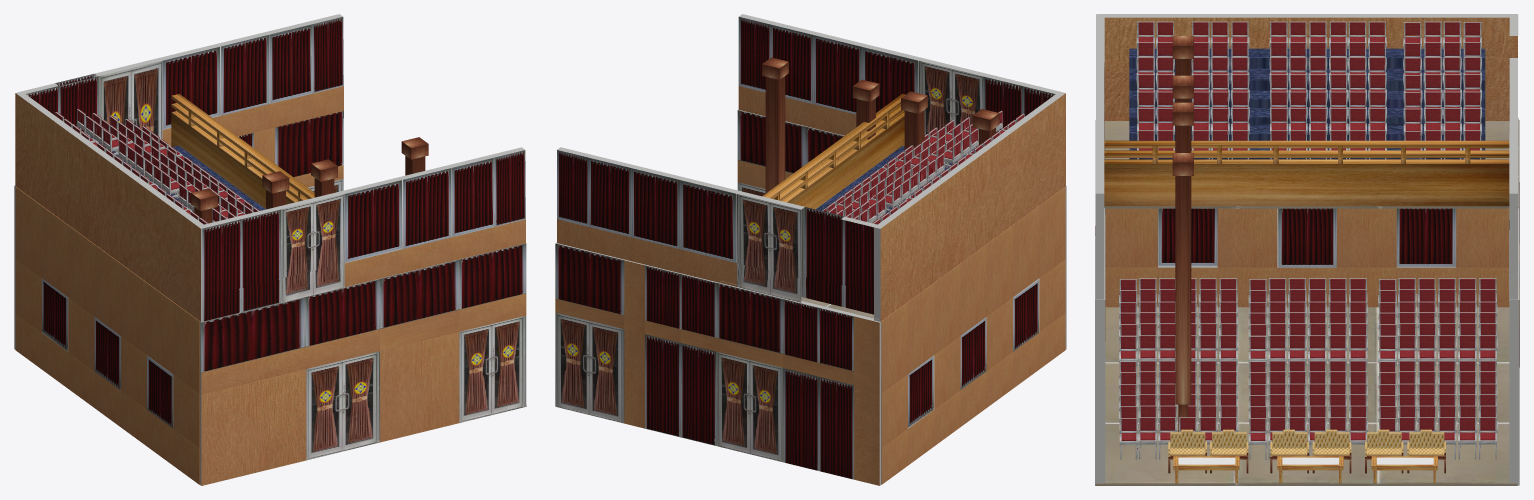
File: detailtengah.fbx
3 renders of one model, left to right at view 1: azimuth 30°, elevation 25°; view 2: azimuth 150°, elevation 25°; view 3: azimuth 270°, elevation 25°, orthographic. The views are drawn at different scales.
Parts seen in each view (by area): view 1: Cube.003, Cube.011; view 2: Cube.003, Cube.011; view 3: Cube.003, Cube.011, Cube.008, Cube.001.
Boxes of the visible parts, x1,y1,x2,y2 form: Cube.003: [14, 14, 526, 485]; Cube.011: [55, 109, 259, 224]; Cube.003: [555, 14, 1066, 485]; Cube.011: [822, 110, 1024, 224]; Cube.003: [1095, 14, 1519, 485]; Cube.011: [1136, 21, 1481, 159]; Cube.008: [1168, 429, 1445, 483]; Cube.001: [1119, 417, 1156, 459].
Size of the model in its own units: 1619 by 1220 by 1610.
